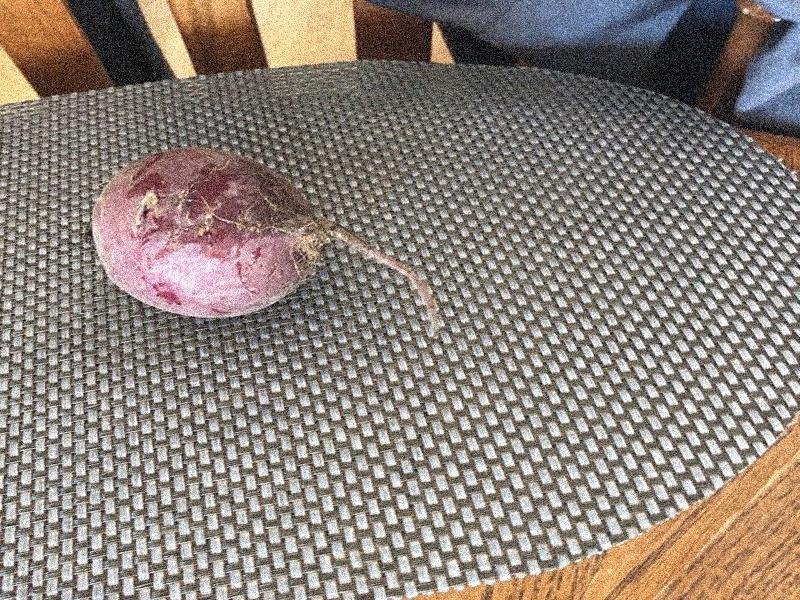Beet: (95, 145, 440, 337)
